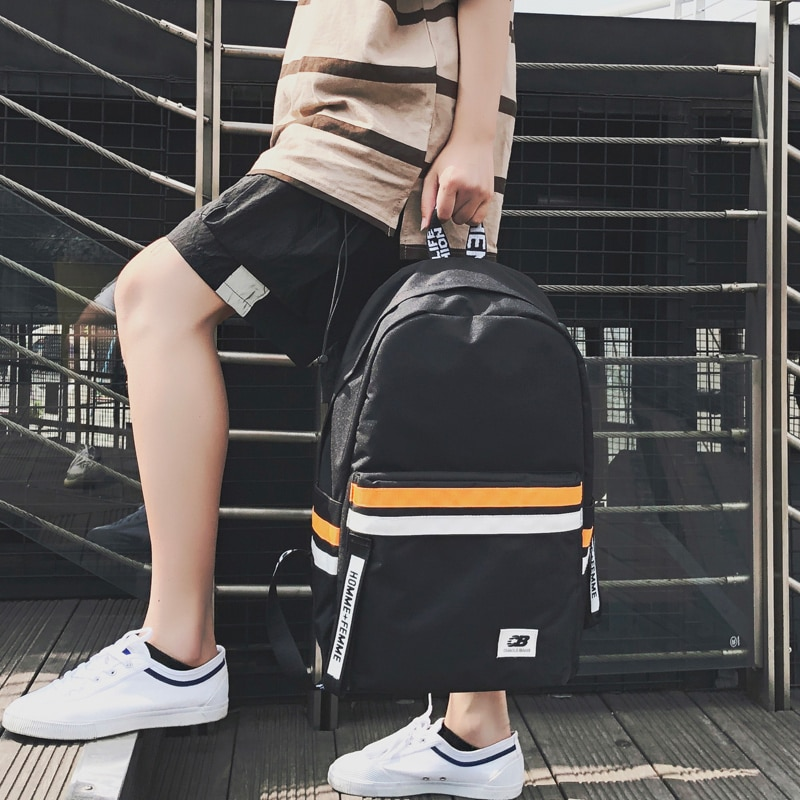Bottoms|Shorts: (164, 165, 389, 361)
Men's Backpacks: (262, 215, 600, 730)
Shoes: (1, 630, 229, 750), (329, 707, 535, 798)
Tops|T-shirts & Tanks: (247, 3, 524, 270)
